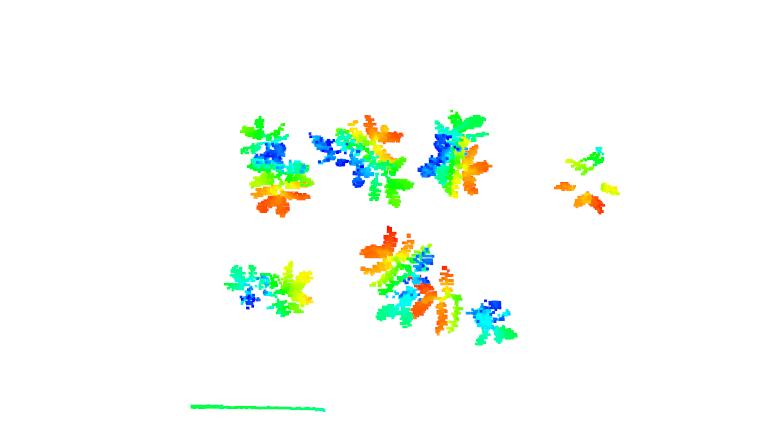chickpea: (311, 112, 414, 209), (416, 265, 518, 348), (241, 114, 314, 222), (360, 225, 434, 328), (413, 109, 495, 201), (223, 259, 317, 320), (555, 144, 623, 218)
